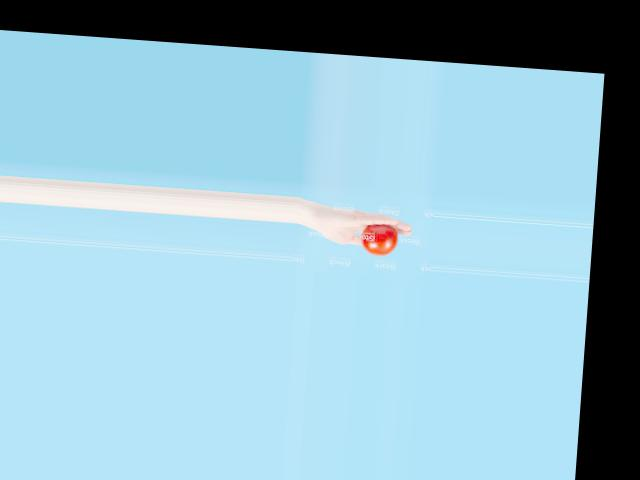tomato: (360, 223, 398, 256)
